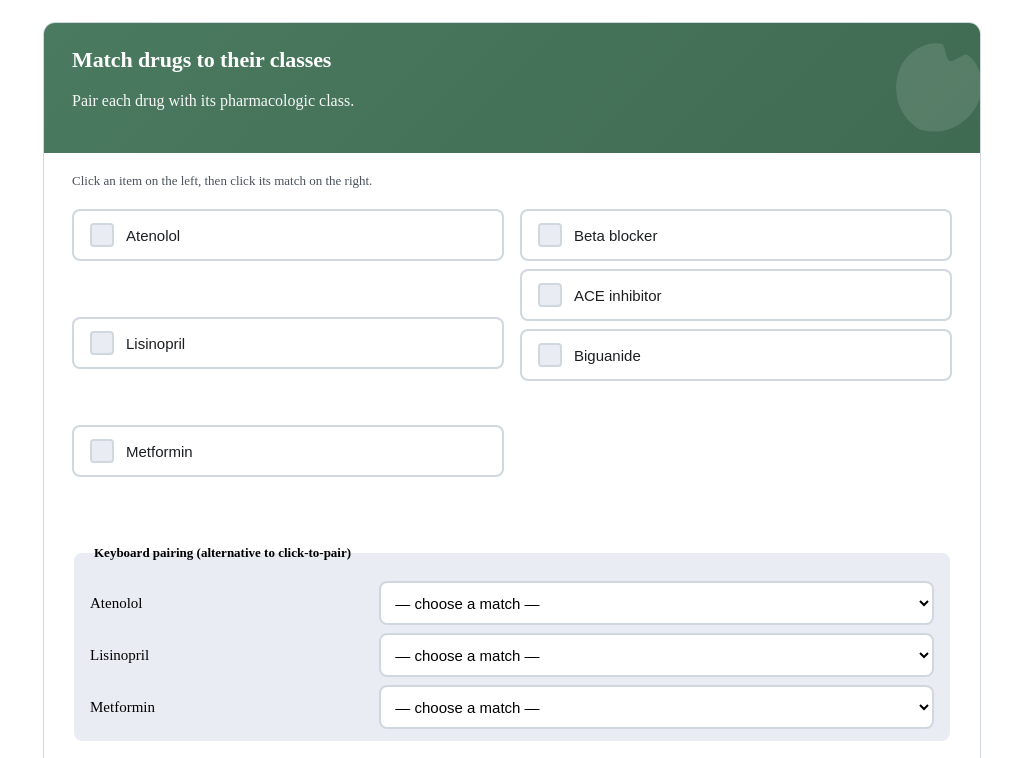
Test: MatchingPairs › Try again resets connections
Select "Beta blocker" in the dropdown labelled "Atenolol" at (657, 603), box [379,581,934,625]
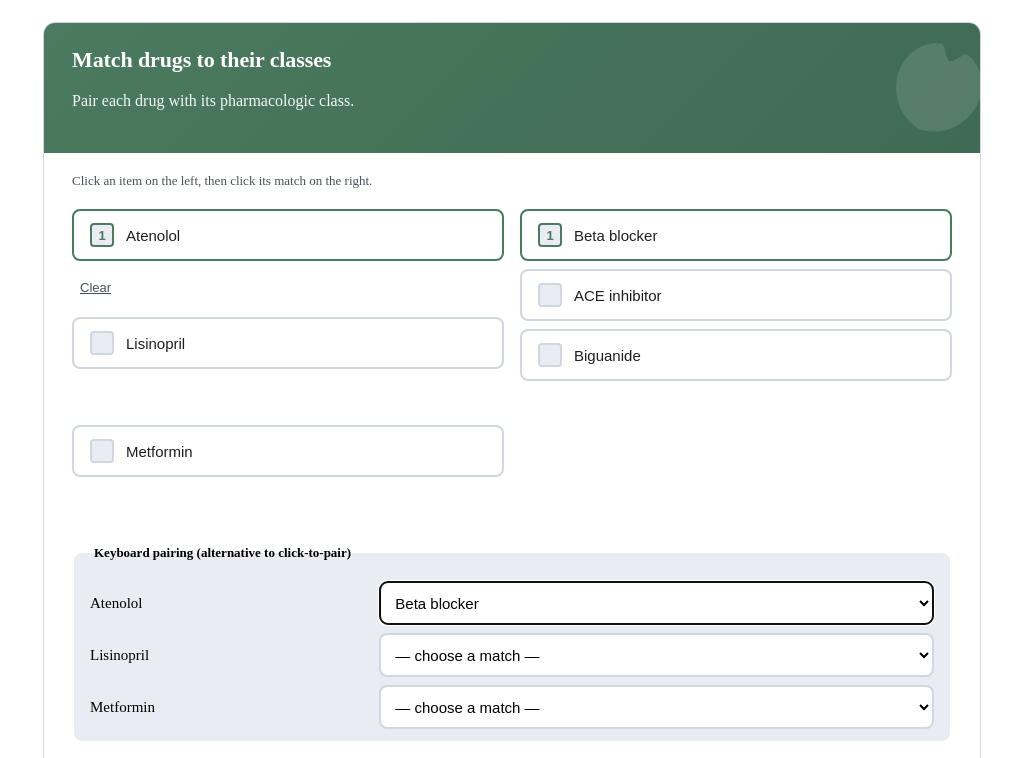
Select "ACE inhibitor" in the dropdown labelled "Lisinopril" at (657, 655), box [379,633,934,677]
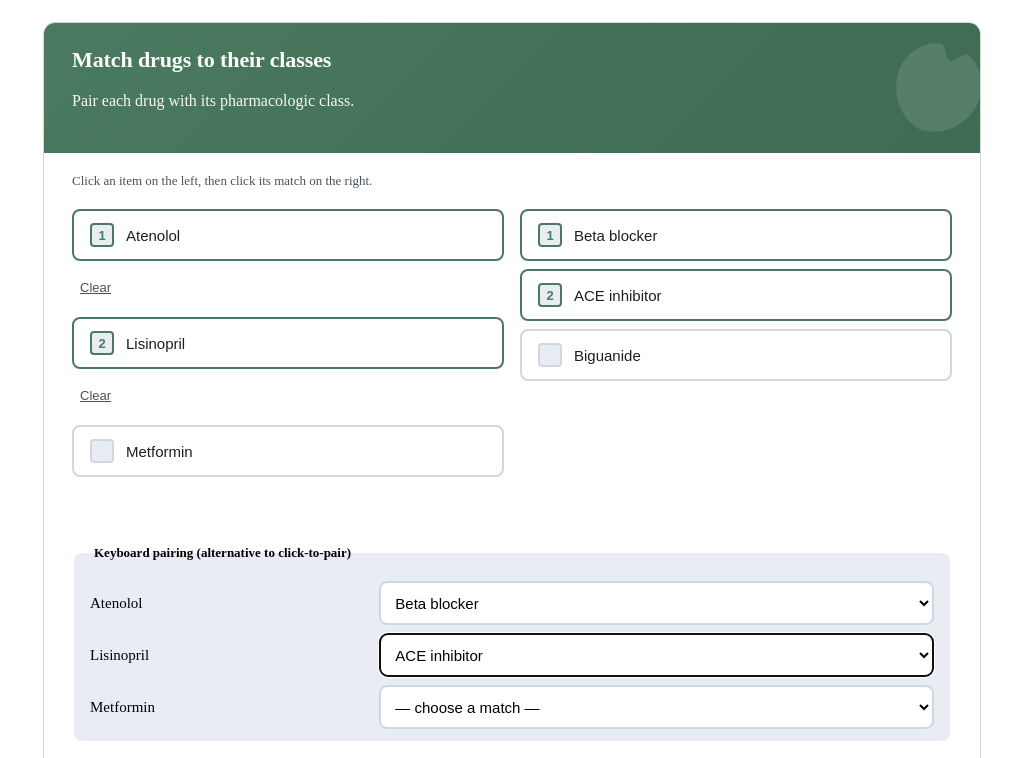
Select "Biguanide" in the dropdown labelled "Metformin" at (657, 707), box [379,685,934,729]
(page scrolled)
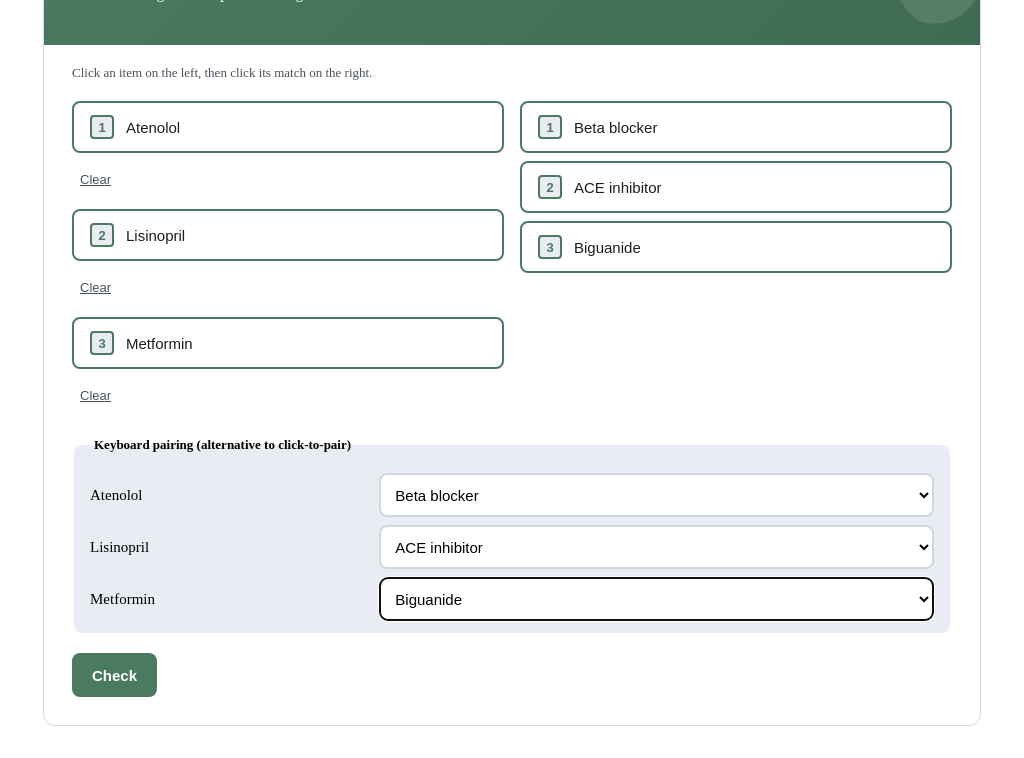
Click the button "Check" at (114, 675), box [72,653,157,697]
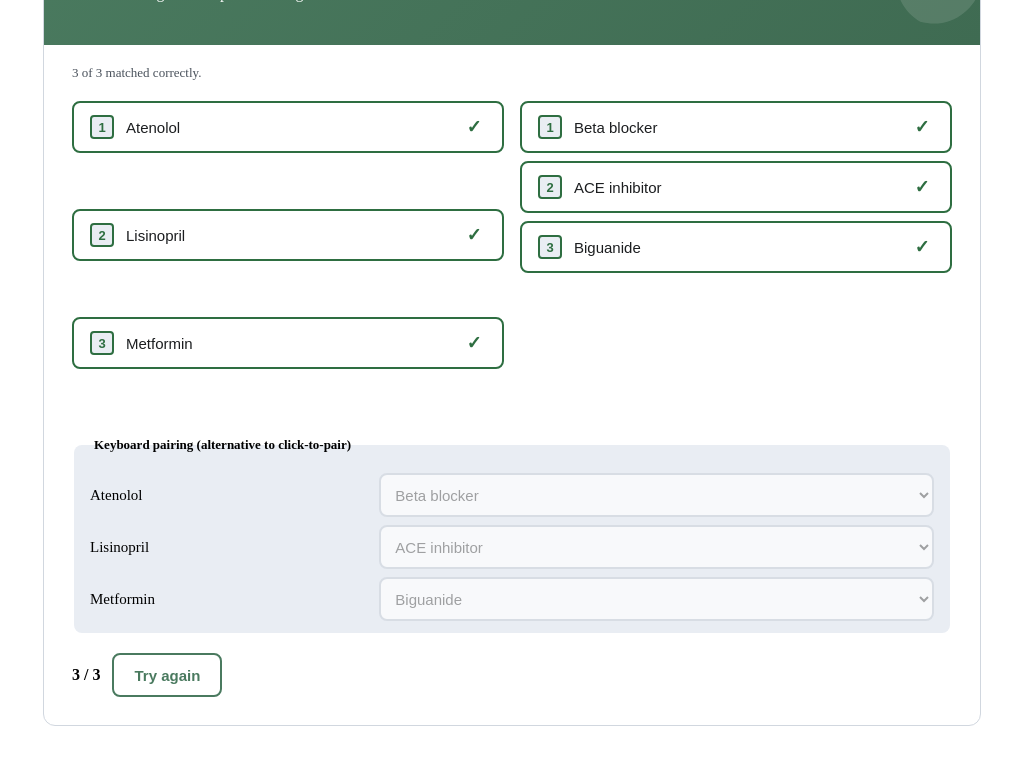
Click the button "Try again" at (167, 675), box [112,653,222,697]
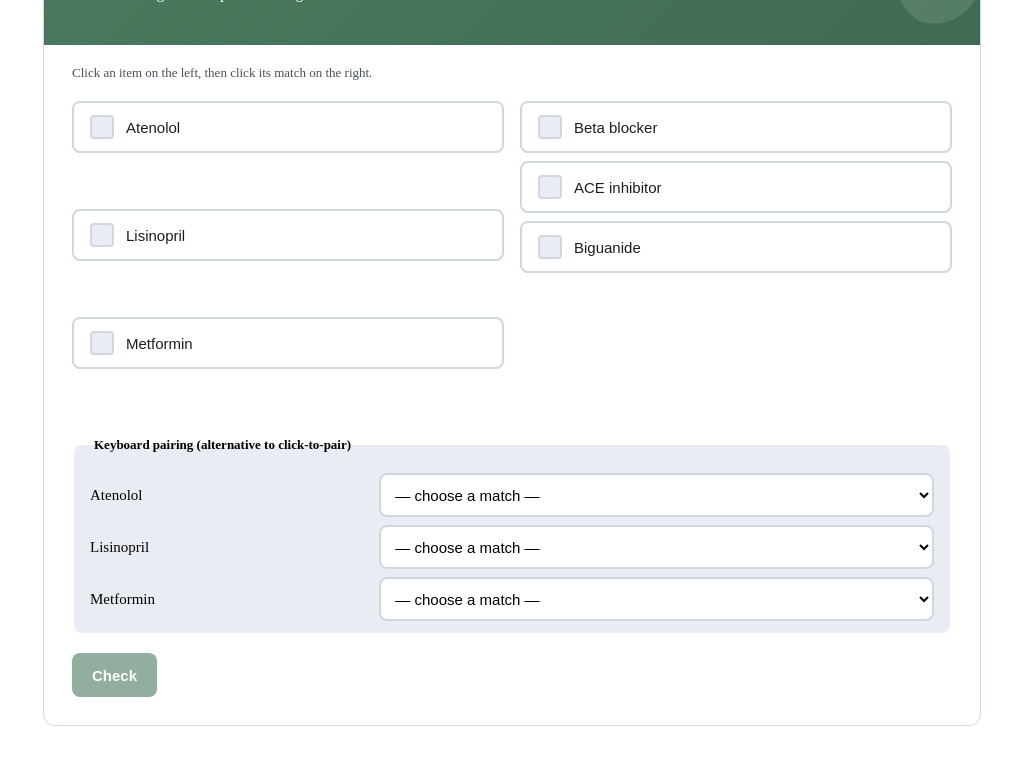
Expected: the button "Check" is disabled, [72,653,157,697]
